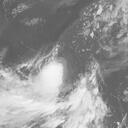cyclone: (17, 59, 90, 112)
